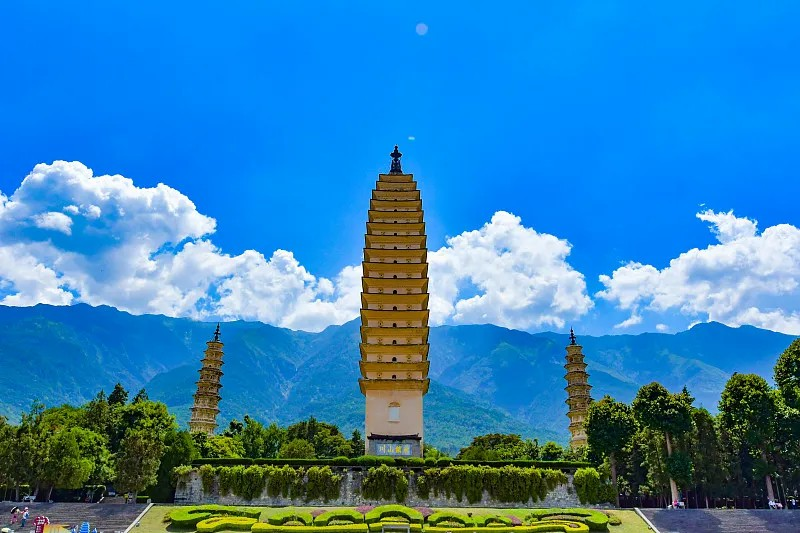ThreePagoda: (359, 143, 430, 455)
